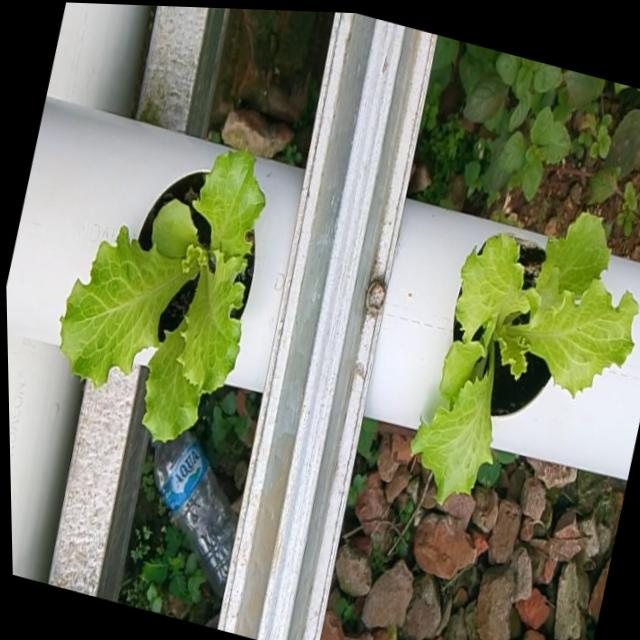Baby: (410, 212, 637, 502), (60, 146, 265, 440)
